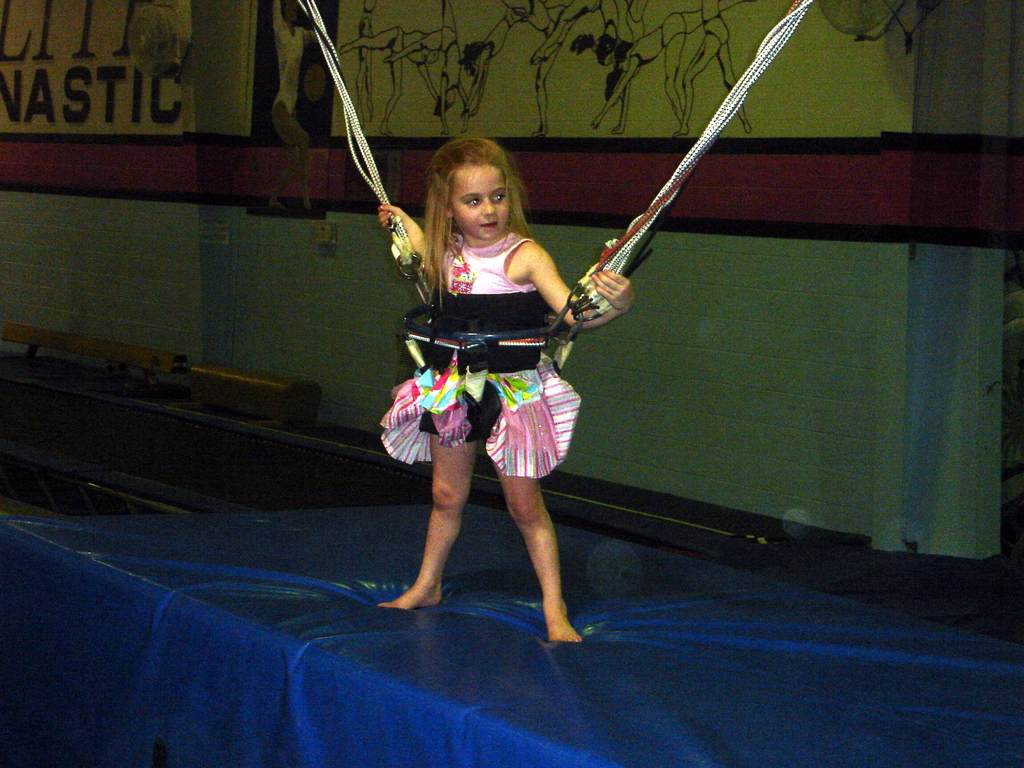Person: (376, 136, 634, 643)
